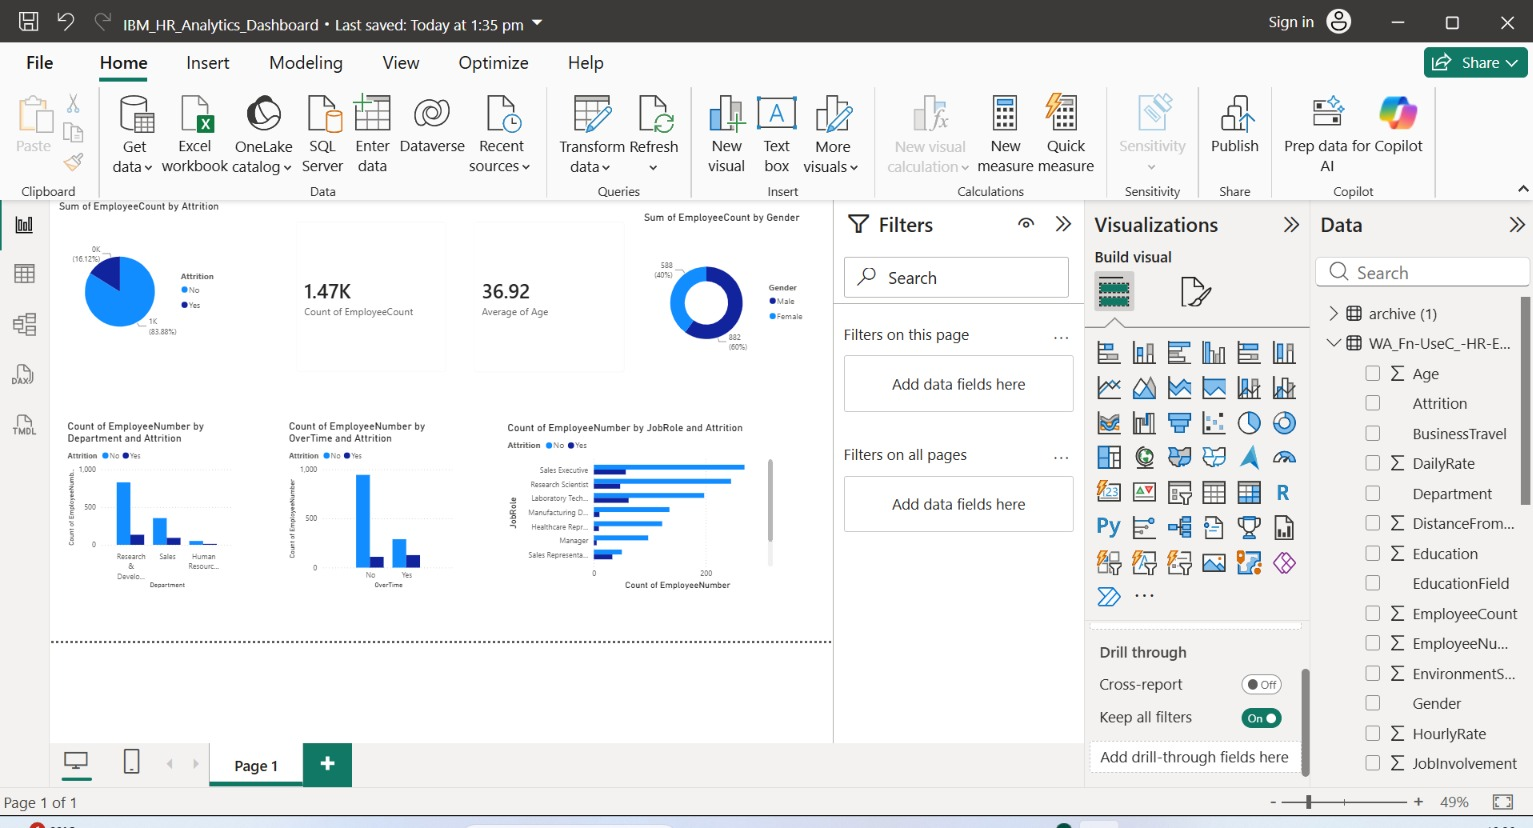

The page's visual inventory and layout, read from the dashboard file:
{"tool":"powerbi","page":{"name":"Page 1","canvas":[1280,720],"ordinal":0},"visuals":[{"type":"pieChart","fields":{"Category":["WA_Fn-UseC_-HR-Employee-Attrition.Attrition"],"Y":["Sum(WA_Fn-UseC_-HR-Employee-Attrition.EmployeeCount)"]},"box":[10,0,280,280],"z":0},{"type":"lineClusteredColumnComboChart","fields":{"Category":["WA_Fn-UseC_-HR-Employee-Attrition.Department"],"Y":["CountNonNull(WA_Fn-UseC_-HR-Employee-Attrition.EmployeeNumber)"],"Series":["WA_Fn-UseC_-HR-Employee-Attrition.Attrition"]},"box":[24.5,359.4,279.7,279.7],"z":1},{"type":"cardVisual","fields":{"Data":["CountNonNull(WA_Fn-UseC_-HR-Employee-Attrition.EmployeeCount)"]},"box":[385.9,18.4,279.7,279.7],"z":2},{"type":"cardVisual","fields":{"Data":["Avg(WA_Fn-UseC_-HR-Employee-Attrition.Age)"]},"box":[676,18,280,280],"z":3},{"type":"donutChart","fields":{"Category":["WA_Fn-UseC_-HR-Employee-Attrition.Gender"],"Y":["Sum(WA_Fn-UseC_-HR-Employee-Attrition.EmployeeCount)"]},"box":[966,18,280,280],"z":4},{"type":"clusteredColumnChart","fields":{"Category":["WA_Fn-UseC_-HR-Employee-Attrition.OverTime"],"Y":["CountNonNull(WA_Fn-UseC_-HR-Employee-Attrition.EmployeeNumber)"],"Series":["WA_Fn-UseC_-HR-Employee-Attrition.Attrition"]},"box":[386,359,280,280],"z":5},{"type":"clusteredBarChart","fields":{"Category":["WA_Fn-UseC_-HR-Employee-Attrition.JobRole"],"Y":["CountNonNull(WA_Fn-UseC_-HR-Employee-Attrition.EmployeeNumber)"],"Series":["WA_Fn-UseC_-HR-Employee-Attrition.Attrition"]},"box":[743.2,361.4,443.1,279.7],"z":6}]}

Visuals, with their boxes on the page's 1280x720 design canvas (x1, y1, x2, y2). These are canvas units, not pixel positions in the 1533x828 screenshot, which may show the page scaled, cropped or inside an application window:
pieChart - WA_Fn-UseC_-HR-Employee-Attrition.Attrition x Sum(WA_Fn-UseC_-HR-Employee-Attrition.EmployeeCount): bbox(10, 0, 290, 280)
lineClusteredColumnComboChart - WA_Fn-UseC_-HR-Employee-Attrition.Department x CountNonNull(WA_Fn-UseC_-HR-Employee-Attrition.EmployeeNumber): bbox(24, 359, 304, 639)
cardVisual - CountNonNull(WA_Fn-UseC_-HR-Employee-Attrition.EmployeeCount): bbox(386, 18, 666, 298)
cardVisual - Avg(WA_Fn-UseC_-HR-Employee-Attrition.Age): bbox(676, 18, 956, 298)
donutChart - WA_Fn-UseC_-HR-Employee-Attrition.Gender x Sum(WA_Fn-UseC_-HR-Employee-Attrition.EmployeeCount): bbox(966, 18, 1246, 298)
clusteredColumnChart - WA_Fn-UseC_-HR-Employee-Attrition.OverTime x CountNonNull(WA_Fn-UseC_-HR-Employee-Attrition.EmployeeNumber): bbox(386, 359, 666, 639)
clusteredBarChart - WA_Fn-UseC_-HR-Employee-Attrition.JobRole x CountNonNull(WA_Fn-UseC_-HR-Employee-Attrition.EmployeeNumber): bbox(743, 361, 1186, 641)
